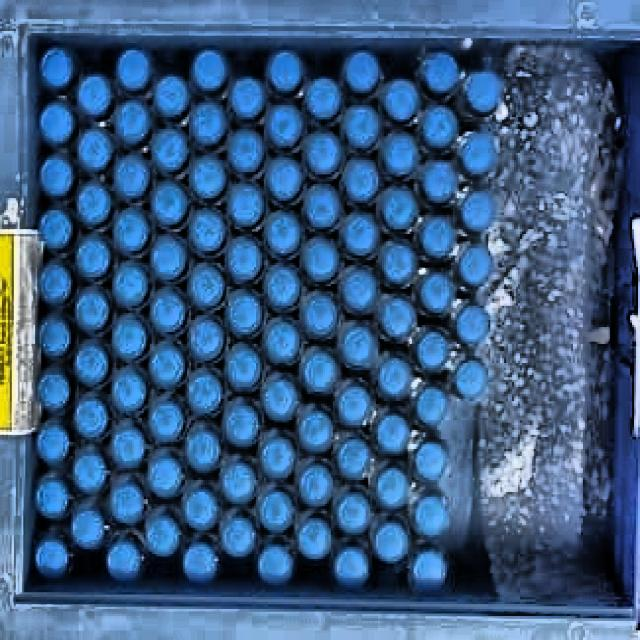vial: (69, 392, 115, 440), (264, 46, 305, 98), (103, 535, 145, 585), (410, 543, 450, 594), (415, 270, 456, 318), (294, 512, 334, 561), (113, 47, 155, 93), (419, 158, 460, 205), (374, 410, 413, 459), (419, 49, 463, 92), (33, 207, 75, 252), (148, 182, 189, 228), (146, 344, 187, 390), (259, 377, 300, 423), (377, 295, 417, 342), (454, 241, 493, 289), (333, 541, 372, 589), (185, 317, 227, 361), (188, 155, 228, 201), (112, 206, 152, 252), (189, 101, 228, 148), (185, 371, 224, 418), (113, 367, 151, 415), (223, 401, 260, 450), (263, 212, 305, 255), (264, 104, 304, 149), (189, 45, 229, 90), (112, 155, 152, 200), (263, 320, 302, 366), (150, 127, 189, 173), (35, 314, 74, 360), (36, 260, 75, 306), (371, 518, 409, 565), (31, 533, 69, 580), (151, 233, 188, 281), (299, 295, 338, 340), (227, 128, 266, 173), (188, 208, 227, 253), (463, 68, 501, 114), (342, 159, 380, 205), (341, 324, 379, 370), (302, 238, 340, 284), (226, 237, 264, 283), (230, 74, 268, 120), (38, 45, 75, 92), (373, 460, 410, 507), (379, 243, 419, 286), (379, 187, 417, 232), (152, 74, 190, 119), (114, 100, 152, 145), (37, 155, 75, 200), (145, 512, 181, 559), (34, 370, 74, 412), (223, 349, 263, 391), (420, 107, 459, 150), (303, 132, 342, 175), (452, 302, 491, 345), (381, 133, 419, 177), (188, 264, 226, 308), (72, 343, 110, 387), (341, 267, 378, 312), (77, 127, 114, 172), (34, 421, 71, 466), (73, 288, 110, 333), (303, 347, 340, 392), (109, 481, 146, 526), (265, 156, 301, 202), (74, 180, 110, 226), (414, 381, 450, 427), (183, 488, 219, 534), (183, 540, 219, 586), (34, 472, 70, 518), (412, 492, 447, 539), (374, 357, 413, 399), (457, 133, 495, 176), (343, 51, 381, 94), (38, 103, 76, 146), (111, 317, 149, 360), (345, 102, 379, 150), (382, 77, 419, 121), (296, 462, 333, 506), (459, 189, 495, 234), (75, 72, 111, 117), (334, 435, 370, 480), (77, 234, 112, 280), (342, 216, 380, 258), (419, 218, 457, 260), (227, 184, 265, 226), (149, 291, 186, 334), (412, 438, 449, 481), (304, 186, 340, 230), (259, 437, 295, 481), (335, 493, 371, 537), (148, 398, 184, 442), (414, 328, 449, 373), (306, 76, 342, 119), (221, 462, 256, 506), (147, 454, 182, 498), (454, 356, 489, 399), (186, 429, 221, 472), (71, 508, 105, 552), (260, 488, 293, 533), (264, 268, 300, 309), (110, 427, 145, 469), (72, 453, 107, 495), (336, 385, 370, 428), (221, 518, 258, 557), (229, 294, 264, 335), (114, 266, 148, 308), (299, 409, 332, 451), (259, 545, 293, 584)
